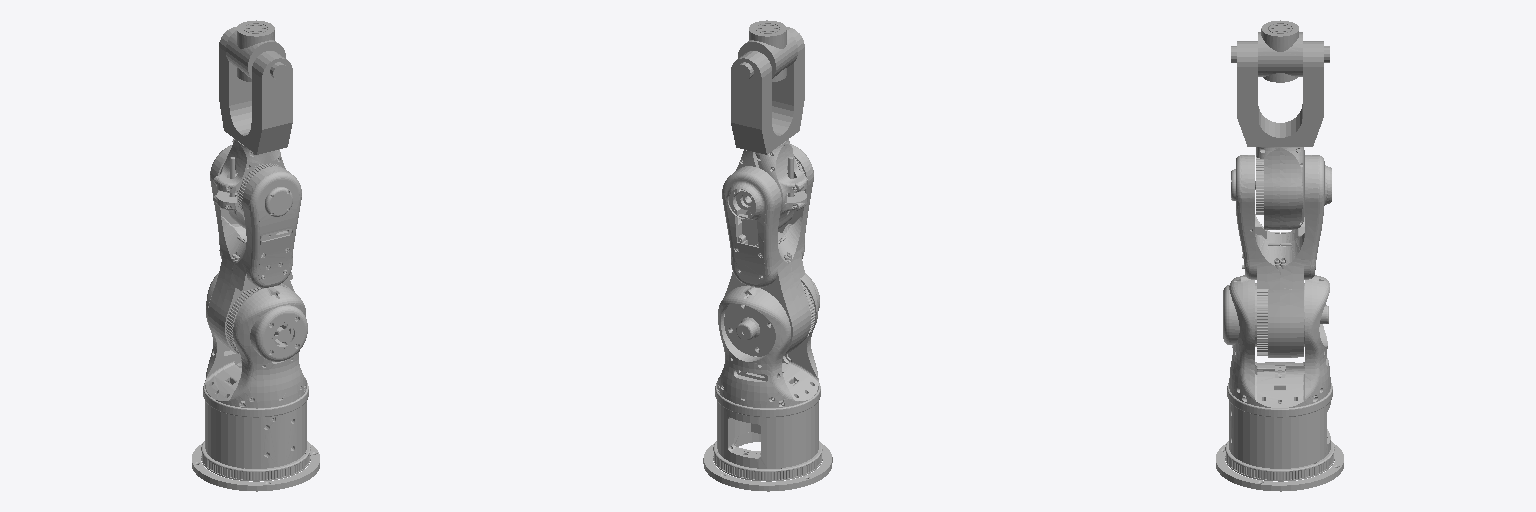
robot.urdf — Final_ISA_URDF:
<?xml version="1.0" encoding="utf-8"?>
<!-- This URDF was automatically created by SolidWorks to URDF Exporter! Originally created by [author] ([email redacted]) 
     Commit Version: 1.5.1-0-g916b5db  Build Version: 1.5.7152.31018
     For more information, please see http://wiki.ros.org/sw_urdf_exporter -->
<robot
  name="Final_ISA_URDF">
  <link
    name="base_link">
    <inertial>
      <origin
        xyz="2.62518992366321E-07 1.61163273788245E-05 0.0144560298651395"
        rpy="0 0 0" />
      <mass
        value="0.286755864167795" />
      <inertia
        ixx="0.000914891478336648"
        ixy="-9.74616219194614E-08"
        ixz="-1.22707969258407E-10"
        iyy="0.000918304334803416"
        iyz="-7.53317610970858E-09"
        izz="0.00181941891671005" />
    </inertial>
    <visual>
      <origin
        xyz="0 0 0"
        rpy="0 0 0" />
      <geometry>
        <mesh
          filename="package://Final_ISA_URDF/meshes/base_link.STL" />
      </geometry>
      <material
        name="">
        <color
          rgba="0.752941176470588 0.752941176470588 0.752941176470588 1" />
      </material>
    </visual>
    <collision>
      <origin
        xyz="0 0 0"
        rpy="0 0 0" />
      <geometry>
        <mesh
          filename="package://Final_ISA_URDF/meshes/base_link.STL" />
      </geometry>
    </collision>
  </link>
  <link
    name="Link1">
    <inertial>
      <origin
        xyz="9.49683310557094E-05 -0.00187813917493874 0.13750307141259"
        rpy="0 0 0" />
      <mass
        value="1.50473234946919" />
      <inertia
        ixx="0.00667121219534555"
        ixy="-8.54445620252032E-06"
        ixz="1.56560865622562E-07"
        iyy="0.00595997019373921"
        iyz="0.000424090863023404"
        izz="0.006430374759868" />
    </inertial>
    <visual>
      <origin
        xyz="0 0 0"
        rpy="0 0 0" />
      <geometry>
        <mesh
          filename="package://Final_ISA_URDF/meshes/Link1.STL" />
      </geometry>
      <material
        name="">
        <color
          rgba="0.752941176470588 0.752941176470588 0.752941176470588 1" />
      </material>
    </visual>
    <collision>
      <origin
        xyz="0 0 0"
        rpy="0 0 0" />
      <geometry>
        <mesh
          filename="package://Final_ISA_URDF/meshes/Link1.STL" />
      </geometry>
    </collision>
  </link>
  <joint
    name="Joint1"
    type="revolute">
    <origin
      xyz="0 0 0"
      rpy="0 0 0" />
    <parent
      link="base_link" />
    <child
      link="Link1" />
    <axis
      xyz="0 0 1" />
    <limit
      lower="0"
      upper="3.14"
      effort="29.276"
      velocity="0.4" />
  </joint>
  <link
    name="Link2">
    <inertial>
      <origin
        xyz="0.00338843774444114 0.000336887813974168 0.00561911018101429"
        rpy="0 0 0" />
      <mass
        value="1.00050619907027" />
      <inertia
        ixx="0.0014522332353461"
        ixy="-8.9482731163037E-06"
        ixz="2.82386498605548E-05"
        iyy="0.00136522040691973"
        iyz="3.07414967244519E-06"
        izz="0.0024851244648194" />
    </inertial>
    <visual>
      <origin
        xyz="0 0 0"
        rpy="0 0 0" />
      <geometry>
        <mesh
          filename="package://Final_ISA_URDF/meshes/Link2.STL" />
      </geometry>
      <material
        name="">
        <color
          rgba="0.752941176470588 0.752941176470588 0.752941176470588 1" />
      </material>
    </visual>
    <collision>
      <origin
        xyz="0 0 0"
        rpy="0 0 0" />
      <geometry>
        <mesh
          filename="package://Final_ISA_URDF/meshes/Link2.STL" />
      </geometry>
    </collision>
  </link>
  <joint
    name="Joint2"
    type="revolute">
    <origin
      xyz="0 0 0.259"
      rpy="1.5708 -1.5708 0" />
    <parent
      link="Link1" />
    <child
      link="Link2" />
    <axis
      xyz="0 0 -1" />
    <limit
      lower="-1.57"
      upper="1.57"
      effort="77.864"
      velocity="0.4" />
  </joint>
  <link
    name="Link3">
    <inertial>
      <origin
        xyz="-8.91663016121433E-05 -0.00405115135509843 -0.000648401972934129"
        rpy="0 0 0" />
      <mass
        value="0.549520755006072" />
      <inertia
        ixx="0.000672536702276881"
        ixy="-6.59360128441997E-06"
        ixz="-9.19434642556495E-07"
        iyy="0.000480817179261754"
        iyz="4.15241325610066E-06"
        izz="0.001032595781869" />
    </inertial>
    <visual>
      <origin
        xyz="0 0 0"
        rpy="0 0 0" />
      <geometry>
        <mesh
          filename="package://Final_ISA_URDF/meshes/Link3.STL" />
      </geometry>
      <material
        name="">
        <color
          rgba="0.752941176470588 0.752941176470588 0.752941176470588 1" />
      </material>
    </visual>
    <collision>
      <origin
        xyz="0 0 0"
        rpy="0 0 0" />
      <geometry>
        <mesh
          filename="package://Final_ISA_URDF/meshes/Link3.STL" />
      </geometry>
    </collision>
  </link>
  <joint
    name="Joint3"
    type="revolute">
    <origin
      xyz="0.225 0 0"
      rpy="0 0 1.5708" />
    <parent
      link="Link2" />
    <child
      link="Link3" />
    <axis
      xyz="0 0 -1" />
    <limit
      lower="-1.57"
      upper="1.57"
      effort="19.141"
      velocity="0.4" />
  </joint>
  <link
    name="Link4">
    <inertial>
      <origin
        xyz="2.23572003270666E-16 -0.000500000000000021 0.142000042986349"
        rpy="0 0 0" />
      <mass
        value="0.952497713016407" />
      <inertia
        ixx="0.00530614361480367"
        ixy="7.10404845280282E-20"
        ixz="-3.14301719378985E-20"
        iyy="0.00354259274696511"
        iyz="-6.5480532041068E-19"
        izz="0.00221010202882688" />
    </inertial>
    <visual>
      <origin
        xyz="0 0 0"
        rpy="0 0 0" />
      <geometry>
        <mesh
          filename="package://Final_ISA_URDF/meshes/Link4.STL" />
      </geometry>
      <material
        name="">
        <color
          rgba="0.698039215686274 0.698039215686274 0.698039215686274 1" />
      </material>
    </visual>
    <collision>
      <origin
        xyz="0 0 0"
        rpy="0 0 0" />
      <geometry>
        <mesh
          filename="package://Final_ISA_URDF/meshes/Link4.STL" />
      </geometry>
    </collision>
  </link>
  <joint
    name="Joint4"
    type="revolute">
    <origin
      xyz="0 0 0"
      rpy="1.5708 0 0" />
    <parent
      link="Link3" />
    <child
      link="Link4" />
    <axis
      xyz="0 0 -1" />
    <limit
      lower="0"
      upper="6.28"
      effort="12.578"
      velocity="0.4" />
  </joint>
  <link
    name="Link5">
    <inertial>
      <origin
        xyz="-1.38831979000418E-07 -0.00281048619169655 -0.000500052013110571"
        rpy="0 0 0" />
      <mass
        value="0.393287799668792" />
      <inertia
        ixx="0.000319382332386347"
        ixy="-9.00754957688623E-10"
        ixz="-1.75182555785641E-09"
        iyy="0.000272873273899642"
        iyz="-4.5738506474632E-10"
        izz="0.000292993325719614" />
    </inertial>
    <visual>
      <origin
        xyz="0 0 0"
        rpy="0 0 0" />
      <geometry>
        <mesh
          filename="package://Final_ISA_URDF/meshes/Link5.STL" />
      </geometry>
      <material
        name="">
        <color
          rgba="0.698039215686274 0.698039215686274 0.698039215686274 1" />
      </material>
    </visual>
    <collision>
      <origin
        xyz="0 0 0"
        rpy="0 0 0" />
      <geometry>
        <mesh
          filename="package://Final_ISA_URDF/meshes/Link5.STL" />
      </geometry>
    </collision>
  </link>
  <joint
    name="Joint5"
    type="revolute">
    <origin
      xyz="0 0 0.227"
      rpy="-1.5708 0 0" />
    <parent
      link="Link4" />
    <child
      link="Link5" />
    <axis
      xyz="0 0 -1" />
    <limit
      lower="-1.57"
      upper="1.57"
      effort="2.633"
      velocity="0.4" />
  </joint>
  <link
    name="Link6">
    <inertial>
      <origin
        xyz="1.90780951084138E-17 -6.28837260041593E-18 0.0423980117302577"
        rpy="0 0 0" />
      <mass
        value="0.00628105868776632" />
      <inertia
        ixx="5.52992389755476E-07"
        ixy="-2.81554428275222E-22"
        ixz="-1.40088624914581E-22"
        iyy="5.52992389755476E-07"
        iyz="4.83070888700992E-24"
        izz="1.08002978042972E-06" />
    </inertial>
    <visual>
      <origin
        xyz="0 0 0"
        rpy="0 0 0" />
      <geometry>
        <mesh
          filename="package://Final_ISA_URDF/meshes/Link6.STL" />
      </geometry>
      <material
        name="">
        <color
          rgba="0.698039215686274 0.698039215686274 0.698039215686274 1" />
      </material>
    </visual>
    <collision>
      <origin
        xyz="0 0 0"
        rpy="0 0 0" />
      <geometry>
        <mesh
          filename="package://Final_ISA_URDF/meshes/Link6.STL" />
      </geometry>
    </collision>
  </link>
  <joint
    name="Joint6"
    type="revolute">
    <origin
      xyz="0 0 -0.0005"
      rpy="1.5708 0 0" />
    <parent
      link="Link5" />
    <child
      link="Link6" />
    <axis
      xyz="0 0 1" />
    <limit
      lower="-1.57"
      upper="1.57"
      effort="0.585"
      velocity="0.4" />
  </joint>
</robot>

--- What the picture shows (computed from the rendered views, not written in the file) ---
The picture shows the robot from 3 angles, left to right: view 1: azimuth 30°, elevation 25°; view 2: azimuth 150°, elevation 25°; view 3: azimuth 270°, elevation 25°; orthographic projection.
Model Final_ISA_URDF with 7 links and 6 joints (6 revolute), rooted at base_link, posed all joints at 0.
Visible links, largest first — view 1: Link1, Link2, Link4, base_link, Link3, Link5; view 2: Link1, Link2, Link4, base_link, Link3, Link5; view 3: Link1, Link2, Link4, Link3, base_link, Link5.
Link boxes in pixels (x1=…): Link1: x1=203, y1=273, x2=308, y2=468; Link2: x1=208, y1=145, x2=307, y2=361; Link4: x1=219, y1=27, x2=292, y2=154; base_link: x1=192, y1=441, x2=319, y2=491; Link3: x1=213, y1=139, x2=285, y2=228; Link5: x1=226, y1=20, x2=285, y2=81; Link1: x1=715, y1=273, x2=820, y2=468; Link2: x1=722, y1=144, x2=819, y2=356; Link4: x1=731, y1=27, x2=804, y2=158; base_link: x1=703, y1=432, x2=832, y2=491; Link3: x1=736, y1=139, x2=807, y2=228; Link5: x1=738, y1=20, x2=797, y2=81; Link1: x1=1227, y1=275, x2=1332, y2=468; Link2: x1=1223, y1=155, x2=1331, y2=357; Link4: x1=1231, y1=41, x2=1329, y2=146; Link3: x1=1255, y1=147, x2=1304, y2=229; base_link: x1=1216, y1=441, x2=1343, y2=491; Link5: x1=1258, y1=20, x2=1302, y2=82.
Bounding box of the posed robot: 0.2028 × 0.2028 × 0.756 m (x, y, z).
Meshes: 7 distinct files referenced, 7 mesh visuals loaded (7 binary STL).